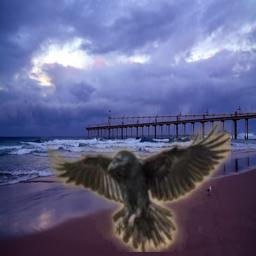Crow: (46, 122, 231, 252)
